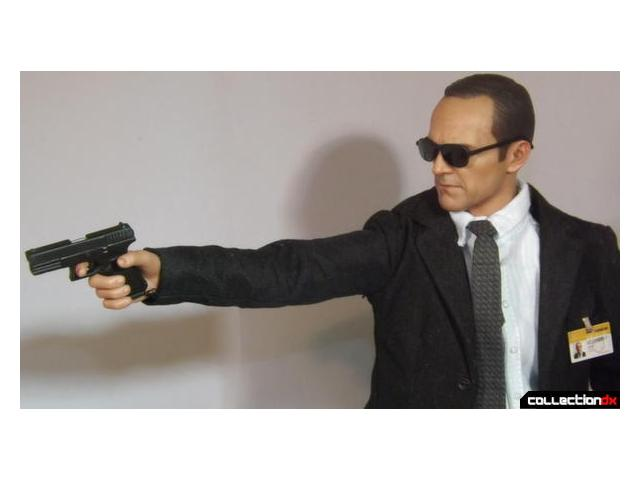pistol: (23, 214, 146, 314)
